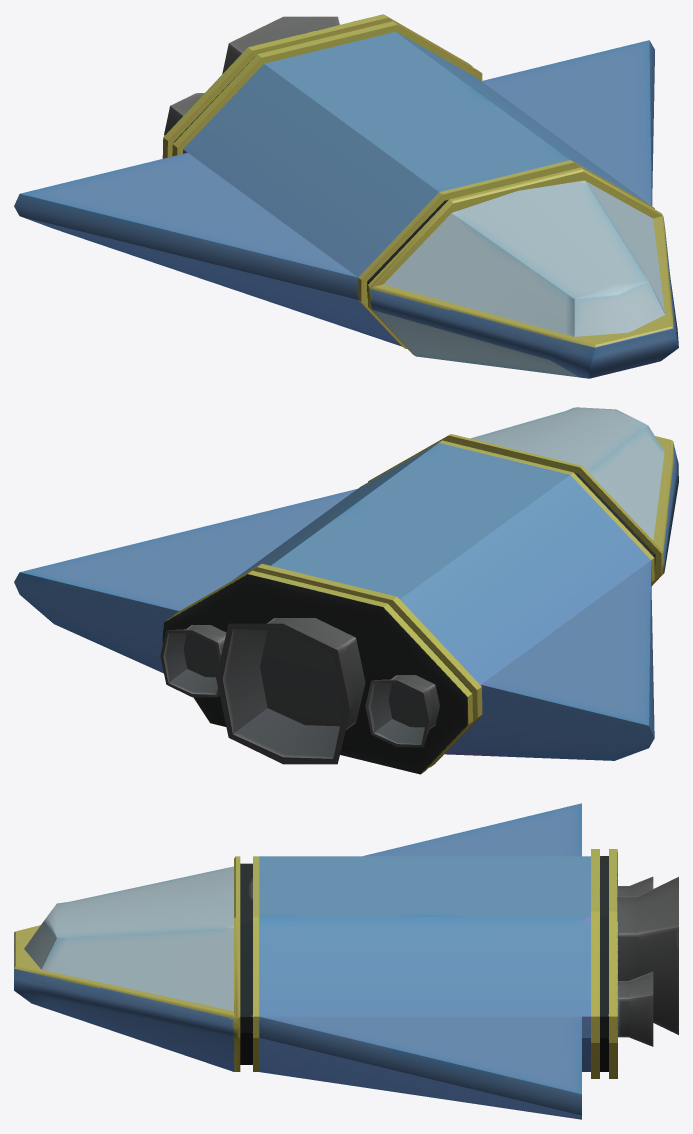
Rendered from smallspaceship.fbx.
The picture shows the model from 3 angles, top to bottom: view 1: azimuth 30°, elevation 25°; view 2: azimuth 150°, elevation 25°; view 3: azimuth 270°, elevation 25°; orthographic projection. The views are drawn at different scales.
Visible parts, largest first — view 1: Ship, Thrusters; view 2: Ship, Thrusters; view 3: Ship, Thrusters.
Boxes of the visible parts, <box> form: Ship: <box>14,14,678,378</box>; Thrusters: <box>164,16,339,135</box>; Ship: <box>14,407,678,774</box>; Thrusters: <box>160,618,439,764</box>; Ship: <box>14,803,617,1119</box>; Thrusters: <box>618,876,678,1046</box>.
Size of the model in its own units: 27.46 by 6.48 by 26.05.
